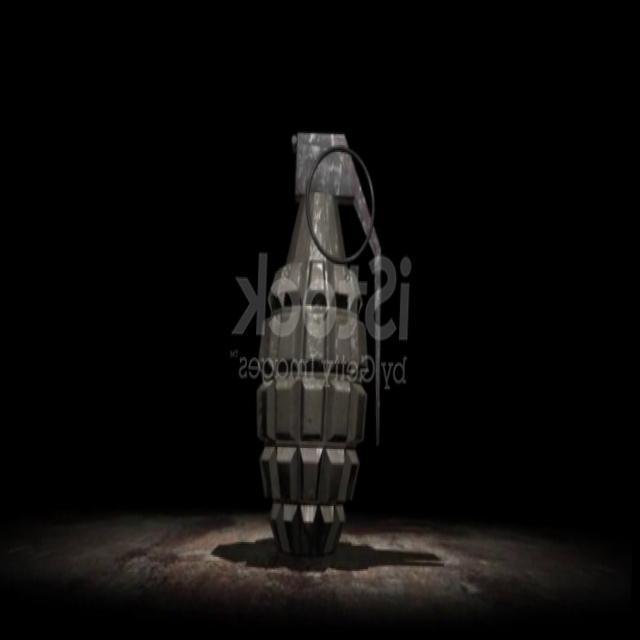grenade: (244, 119, 388, 558)
